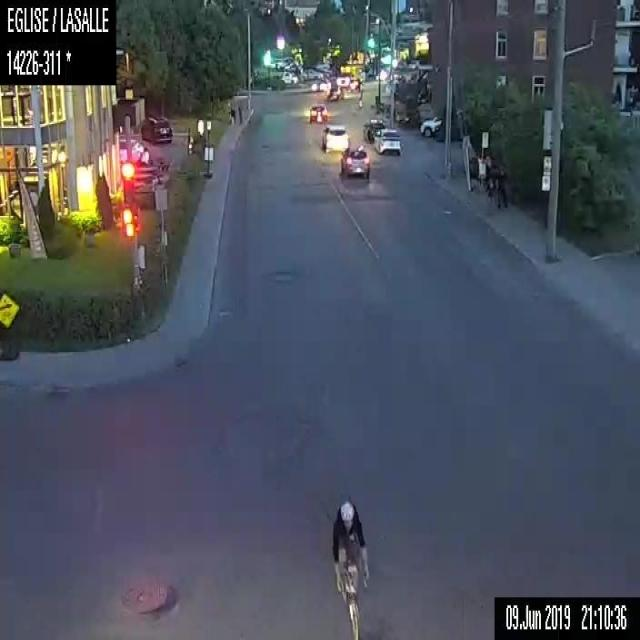cyclist: (331, 500, 370, 639)
pedestrian: (497, 148, 508, 208), (483, 175, 496, 211), (237, 104, 243, 124), (230, 103, 235, 125)
vehicle: (140, 111, 170, 146), (339, 147, 369, 177), (320, 123, 350, 152), (334, 64, 366, 88), (376, 126, 400, 154), (362, 117, 383, 141), (420, 114, 441, 138), (308, 103, 328, 123), (302, 66, 321, 81), (311, 78, 328, 92), (282, 70, 298, 84)
